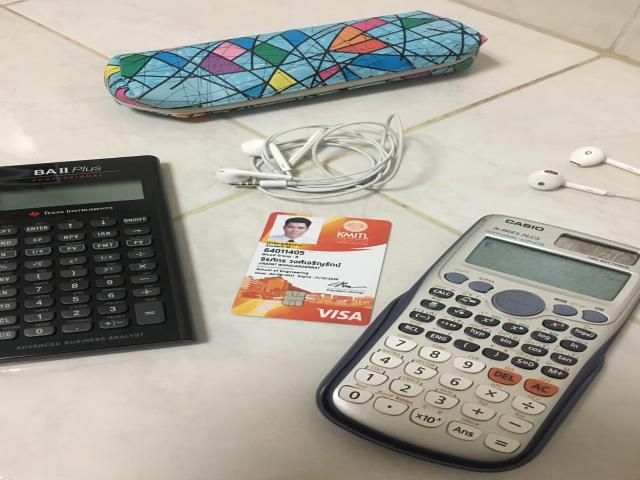wire: (217, 114, 403, 200), (528, 170, 638, 198), (570, 146, 640, 174)
